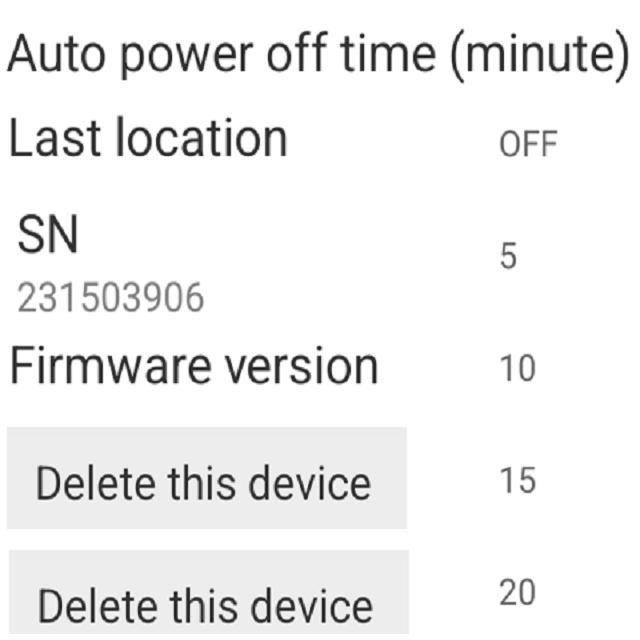0: (36, 462, 59, 500), (520, 350, 536, 381)
1: (62, 280, 74, 312)
5: (82, 279, 98, 312)
A: (8, 32, 36, 75)
D: (38, 586, 61, 624)
F: (5, 340, 32, 386)
L: (0, 114, 33, 166)
S: (19, 214, 45, 256)
X: (35, 280, 55, 313)
